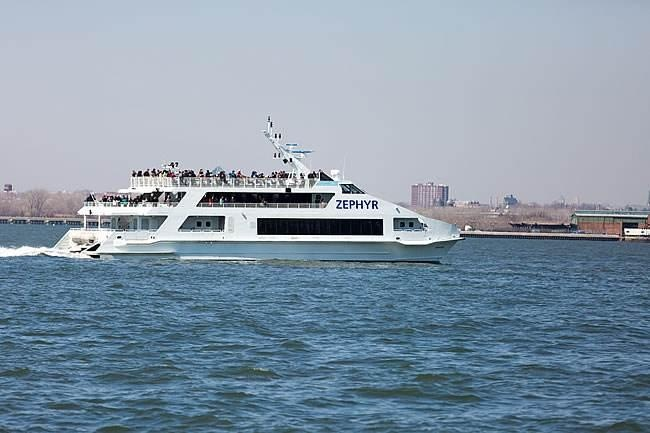yacht: (49, 134, 463, 260)
